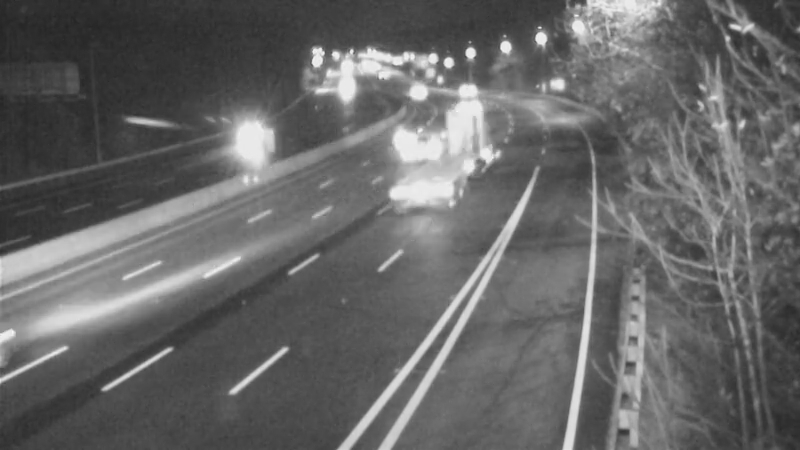vehicle: (381, 111, 461, 191), (404, 138, 484, 218), (444, 67, 494, 117), (394, 66, 444, 116), (442, 81, 492, 131), (380, 110, 430, 160), (222, 119, 272, 169)
